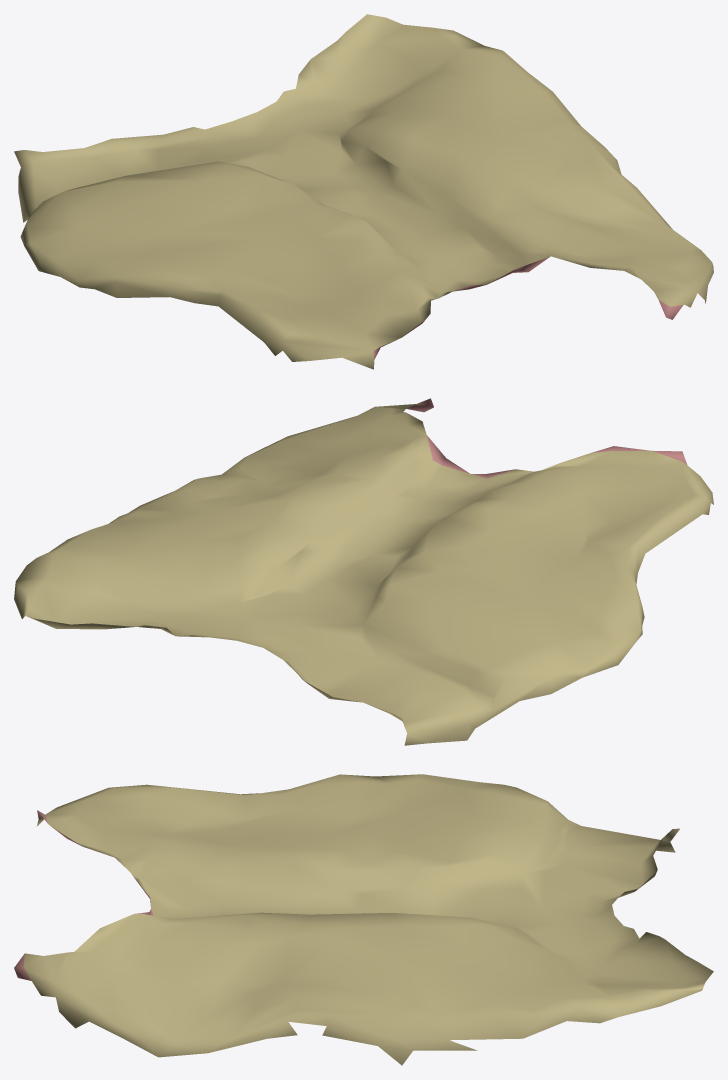
File: platform1collider1.fbx
3 views of the same model, one above another, from view 1: azimuth 30°, elevation 25°; view 2: azimuth 150°, elevation 25°; view 3: azimuth 270°, elevation 25° (orthographic). The views are drawn at different scales.
Visible parts, largest first — view 1: platform1collider1; view 2: platform1collider1; view 3: platform1collider1.
Part boxes in pixels (<box>): platform1collider1: <box>14,14,713,369</box>; platform1collider1: <box>14,398,713,745</box>; platform1collider1: <box>14,774,713,1065</box>.
Size of the model in its own units: 5275 by 706 by 5889.
